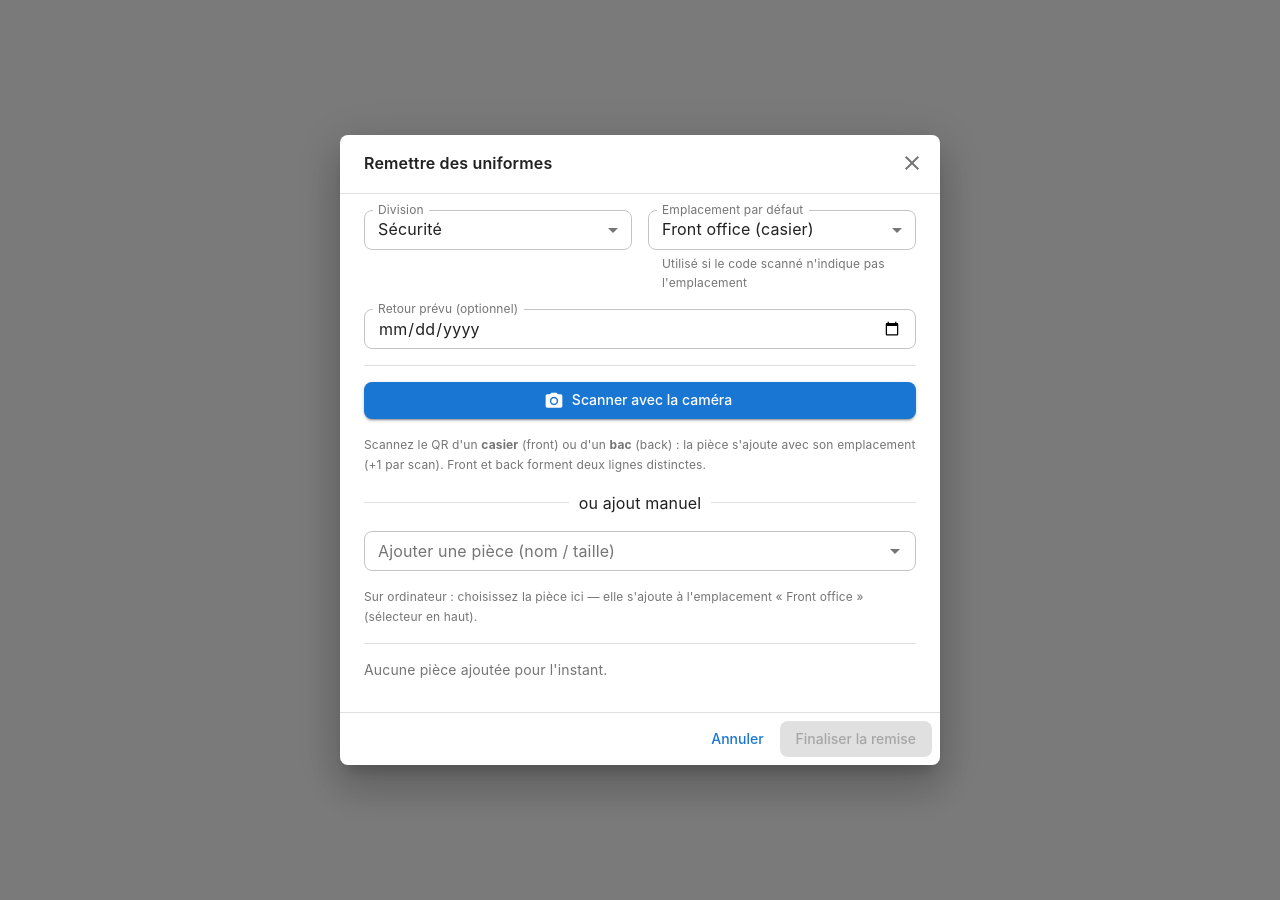
Test: MobileIssuanceSheet › retire une ligne via l'icône Supprimer et revient à l'état vide
Click the dropdown labelled "Ajouter une pièce (nom / taille)" at (624, 551), box [370,537,877,565]
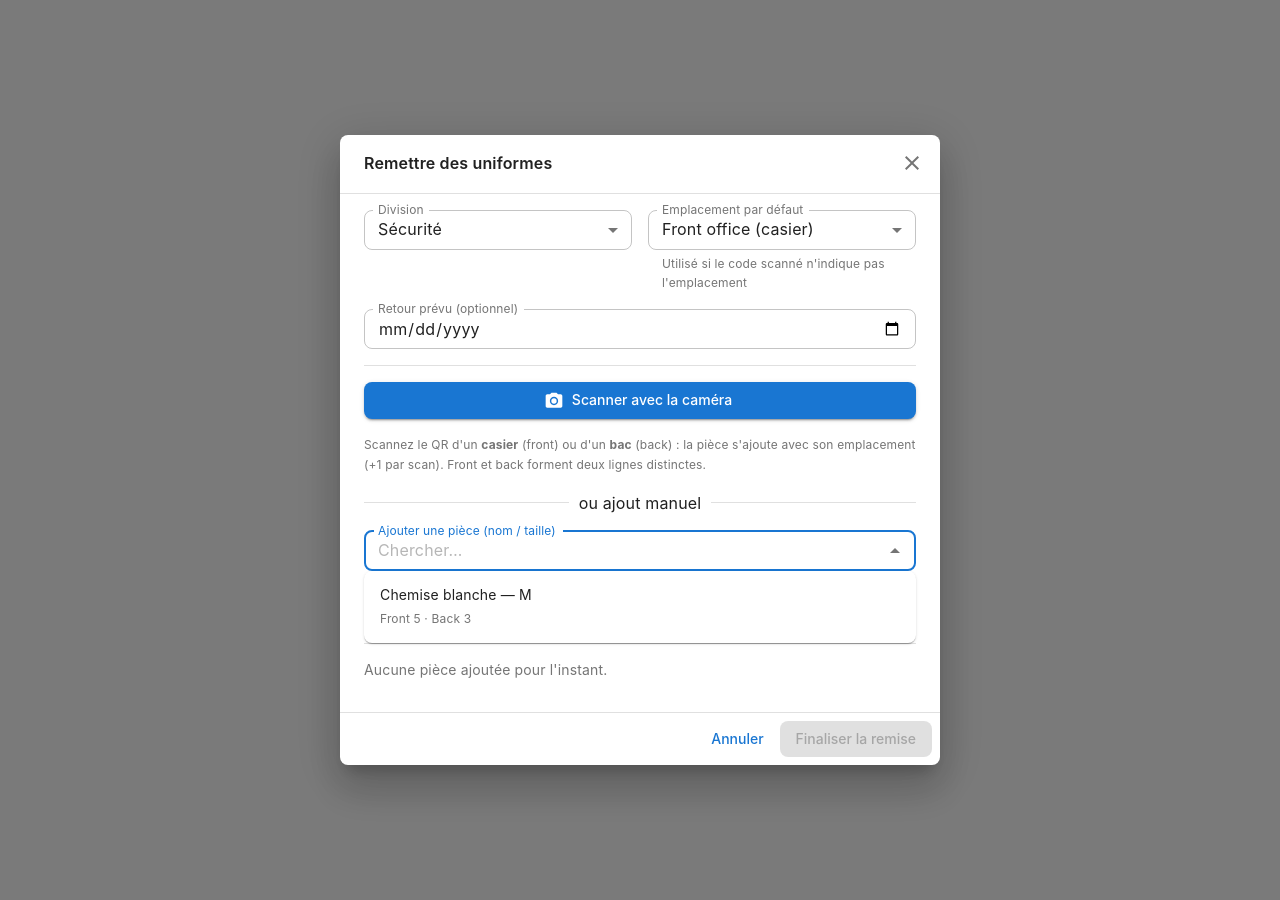
Click the text "Chemise blanche — M" at (456, 595), box [380,585,532,605]
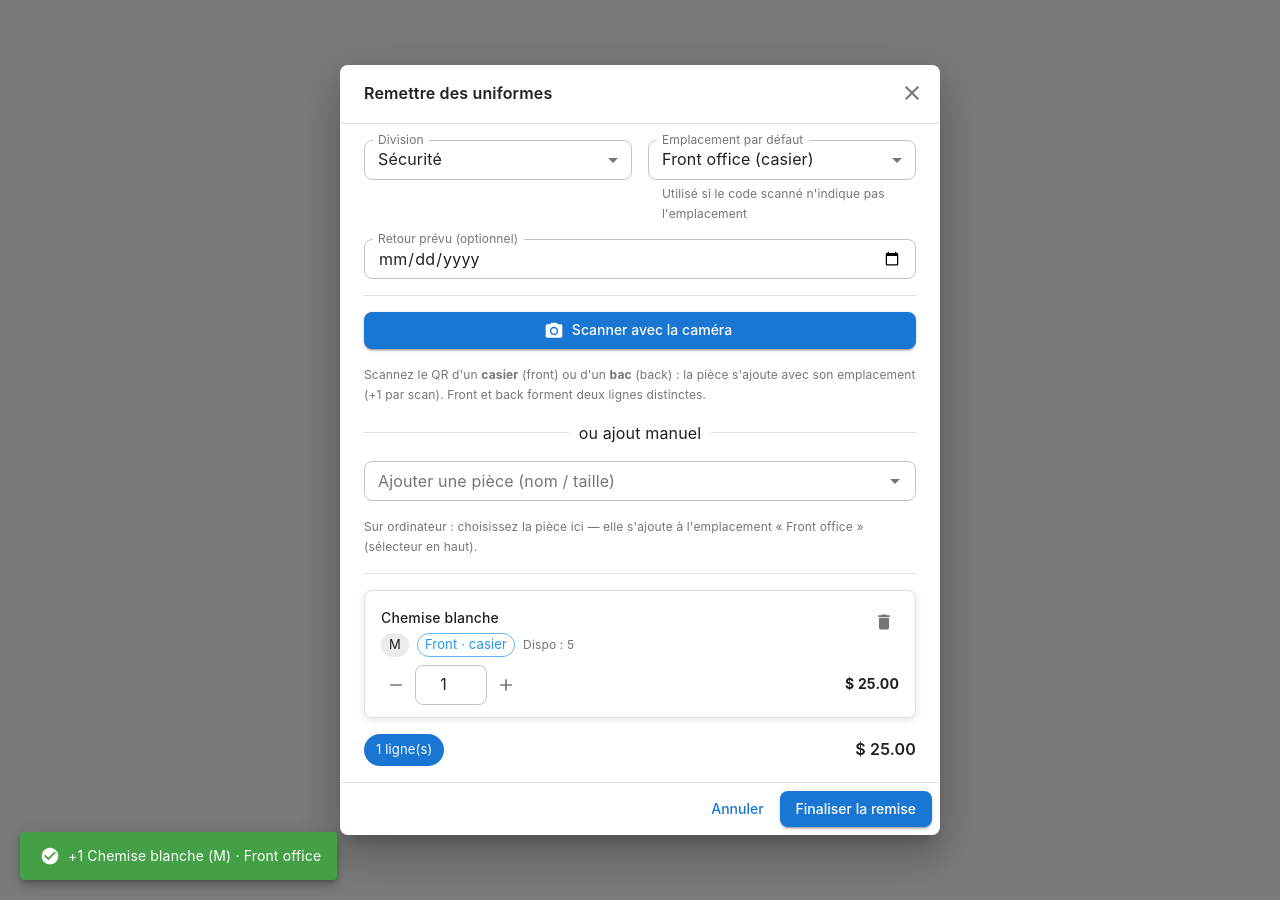
Expected: the text "1 ligne(s)" is shown, [376,741,432,757]
Click the 4th button at (884, 622), box [869,606,899,636]
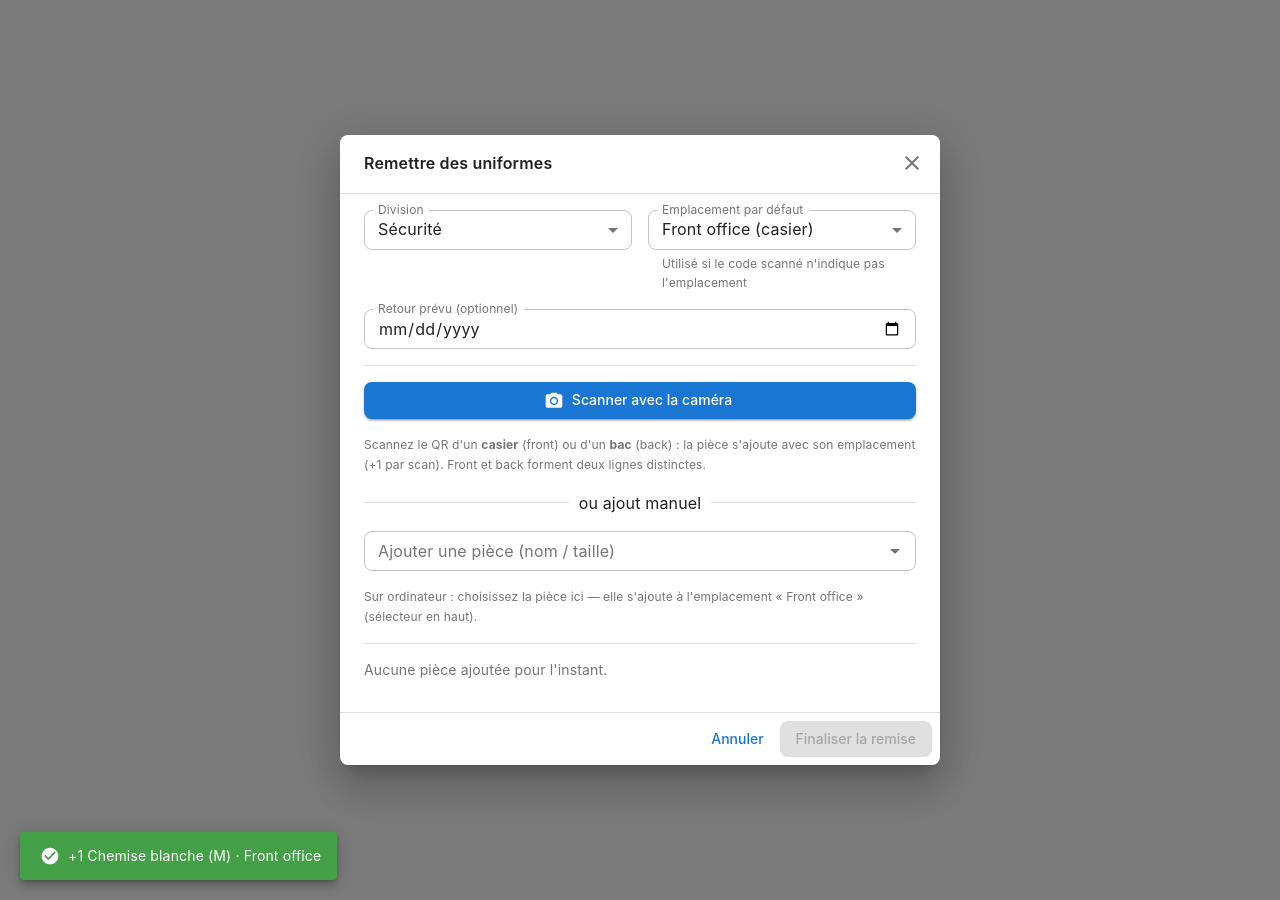
Expected: the text "Aucune pièce ajoutée pour l'instant." is shown, [364,660,607,678]
Expected: the button "Finaliser la remise" is disabled, [780,720,932,757]
